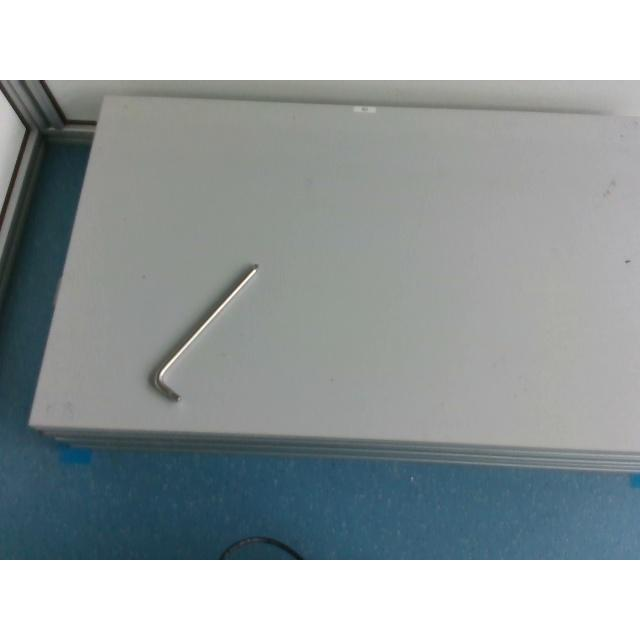AllenKey: (148, 263, 260, 402)
